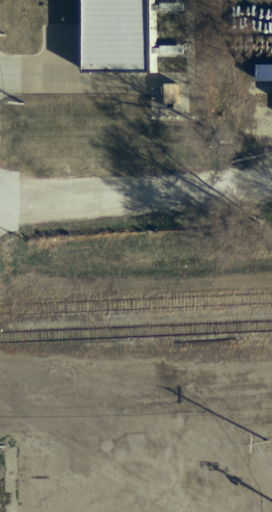DT: (242, 433, 269, 455)
